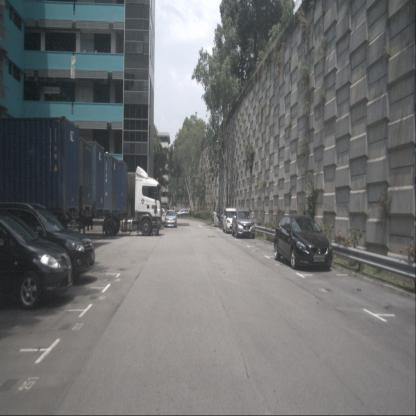vehicle-car: (0, 204, 95, 280), (0, 213, 73, 310), (273, 214, 333, 269), (231, 207, 255, 240), (223, 207, 239, 233), (164, 210, 177, 228), (177, 208, 191, 218)
vehicle-motorcycle: (216, 213, 233, 229)
vehicle-truck: (101, 166, 162, 236)
